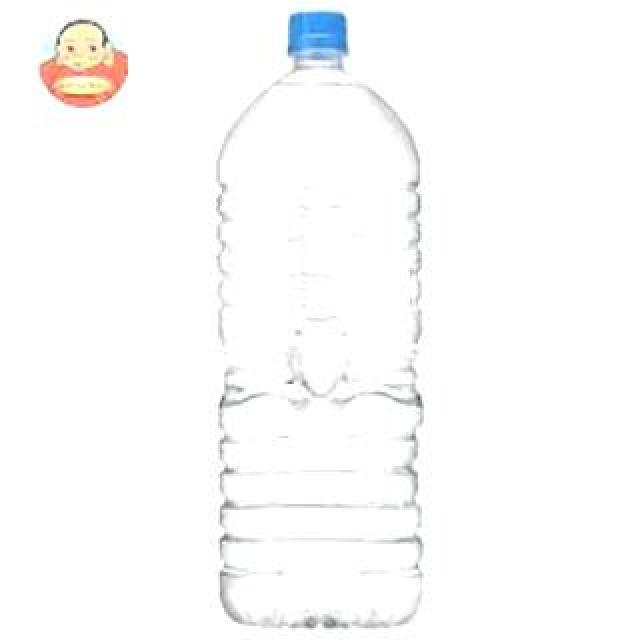Pet_Bottle: (211, 9, 425, 637)
